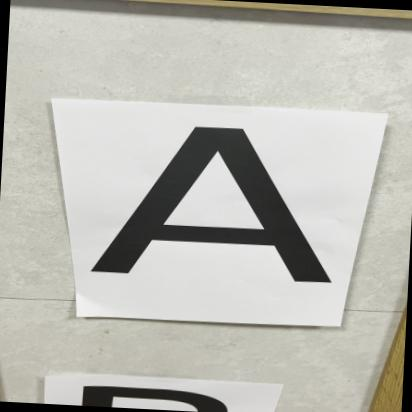seat: (71, 107, 371, 331)
